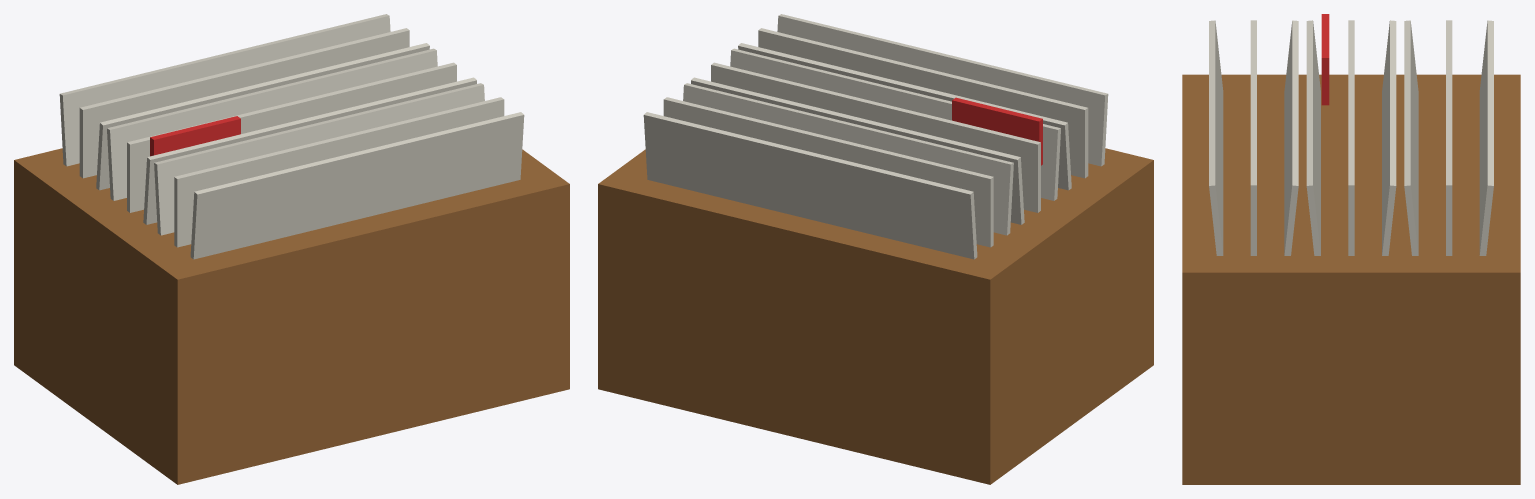
File: recipe_box.glb
The picture shows the model from 3 angles, left to right: view 1: azimuth 30°, elevation 25°; view 2: azimuth 150°, elevation 25°; view 3: azimuth 270°, elevation 25°; orthographic projection. The views are drawn at different scales.
Parts seen in each view (by area): view 1: box_recipe_wood, cards_recipe_card, tab_recipe_tab; view 2: box_recipe_wood, cards_recipe_card, tab_recipe_tab; view 3: box_recipe_wood, cards_recipe_card, tab_recipe_tab.
Part boxes in pixels (x1=…): box_recipe_wood: x1=14, y1=148, x2=569, y2=484; cards_recipe_card: x1=59, y1=14, x2=524, y2=259; tab_recipe_tab: x1=150, y1=116, x2=240, y2=156; box_recipe_wood: x1=598, y1=148, x2=1153, y2=484; cards_recipe_card: x1=643, y1=14, x2=1108, y2=259; tab_recipe_tab: x1=952, y1=97, x2=1042, y2=165; box_recipe_wood: x1=1182, y1=74, x2=1520, y2=484; cards_recipe_card: x1=1209, y1=20, x2=1493, y2=255; tab_recipe_tab: x1=1321, y1=14, x2=1329, y2=105.
Size of the model in its own units: 0.36 by 0.25 by 0.26.
